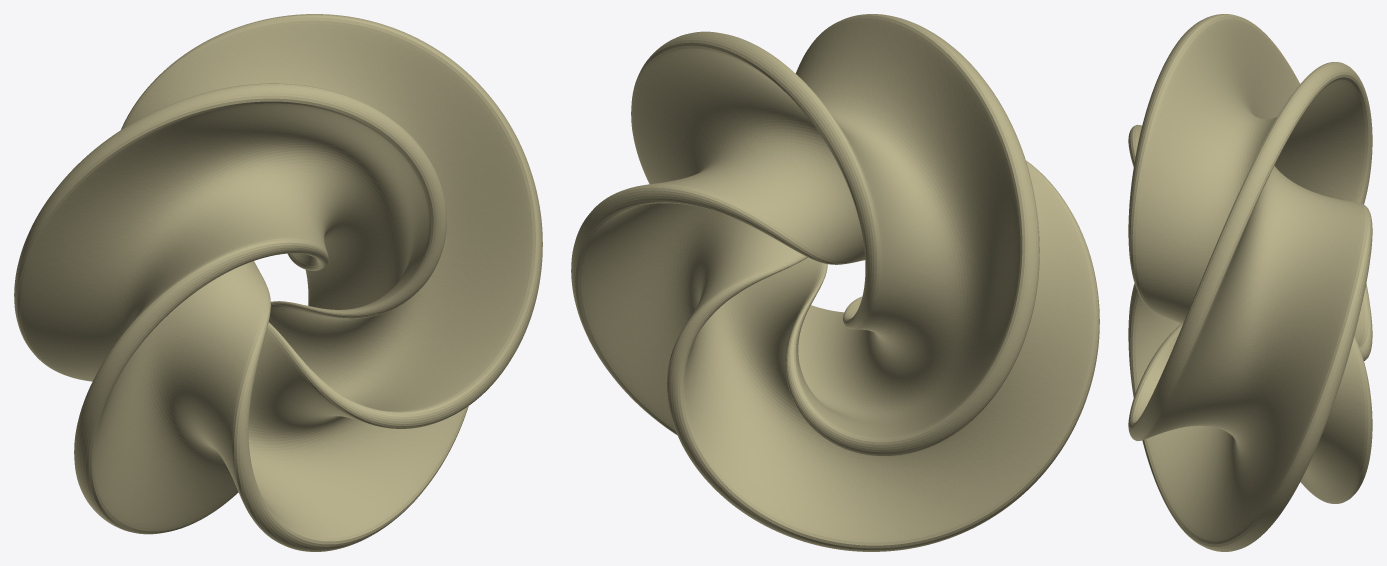
3 renders of one model, left to right at view 1: azimuth 30°, elevation 25°; view 2: azimuth 150°, elevation 25°; view 3: azimuth 270°, elevation 25°, orthographic. The views are drawn at different scales.
Visible parts, largest first — view 1: Shape_71; view 2: Shape_71; view 3: Shape_71.
Boxes of the visible parts, x1=… form: Shape_71: x1=14, y1=14, x2=542, y2=551; Shape_71: x1=571, y1=14, x2=1099, y2=551; Shape_71: x1=1128, y1=14, x2=1372, y2=551.
Size of the model in its own units: 2.81 by 2.81 by 1.36.
